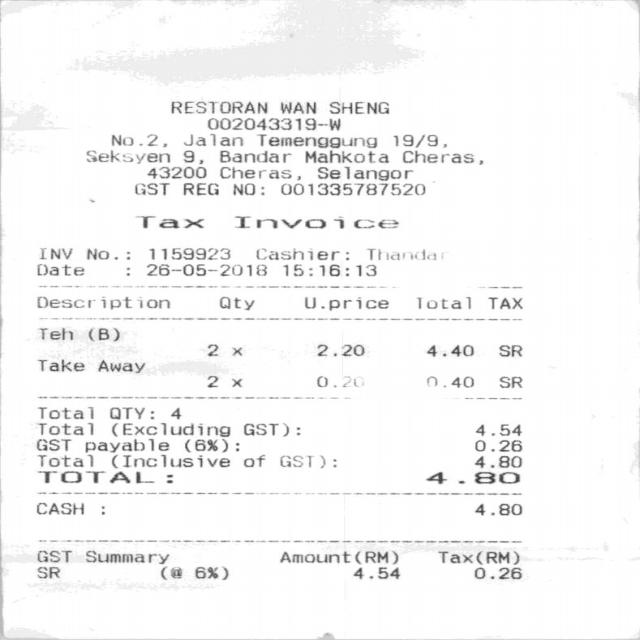text: (234, 215, 398, 228), (36, 294, 167, 309), (279, 182, 423, 195), (145, 263, 269, 278), (256, 133, 376, 148), (110, 422, 229, 437), (110, 453, 229, 468), (36, 470, 172, 483), (206, 117, 339, 130), (280, 550, 397, 564), (316, 165, 411, 181), (281, 263, 375, 276), (424, 471, 518, 484), (303, 149, 388, 163), (83, 438, 168, 452), (83, 550, 168, 564), (256, 247, 347, 260), (85, 150, 169, 164), (303, 296, 387, 310), (170, 101, 266, 113), (218, 166, 300, 180), (436, 550, 518, 564), (157, 566, 227, 582), (148, 247, 228, 260), (402, 150, 476, 164), (218, 149, 290, 163), (367, 248, 450, 260), (135, 215, 202, 228), (328, 100, 388, 114), (242, 422, 298, 437), (183, 438, 238, 452), (392, 134, 445, 148), (110, 134, 166, 147), (182, 134, 242, 146), (145, 166, 205, 178), (36, 422, 91, 435), (35, 454, 92, 466), (96, 359, 144, 373), (36, 406, 91, 418), (36, 358, 82, 372), (280, 455, 325, 469), (473, 455, 521, 468), (351, 566, 399, 579), (474, 566, 520, 579), (473, 439, 521, 451), (473, 504, 521, 516), (108, 406, 152, 419), (425, 344, 472, 356), (425, 375, 472, 387), (36, 263, 82, 275), (316, 344, 362, 356), (474, 423, 520, 435), (36, 502, 82, 514), (416, 298, 468, 308), (279, 100, 315, 114), (181, 182, 217, 196), (315, 375, 356, 387), (36, 327, 72, 340), (218, 296, 251, 310), (86, 327, 118, 341), (34, 438, 70, 450), (135, 182, 168, 195), (206, 344, 241, 356), (206, 375, 241, 387), (37, 247, 71, 259), (486, 297, 520, 309), (36, 550, 70, 562), (232, 182, 263, 195), (85, 248, 110, 261), (181, 150, 202, 164), (242, 454, 264, 467), (498, 344, 521, 356), (35, 566, 58, 578), (498, 376, 521, 387), (169, 407, 180, 419)
